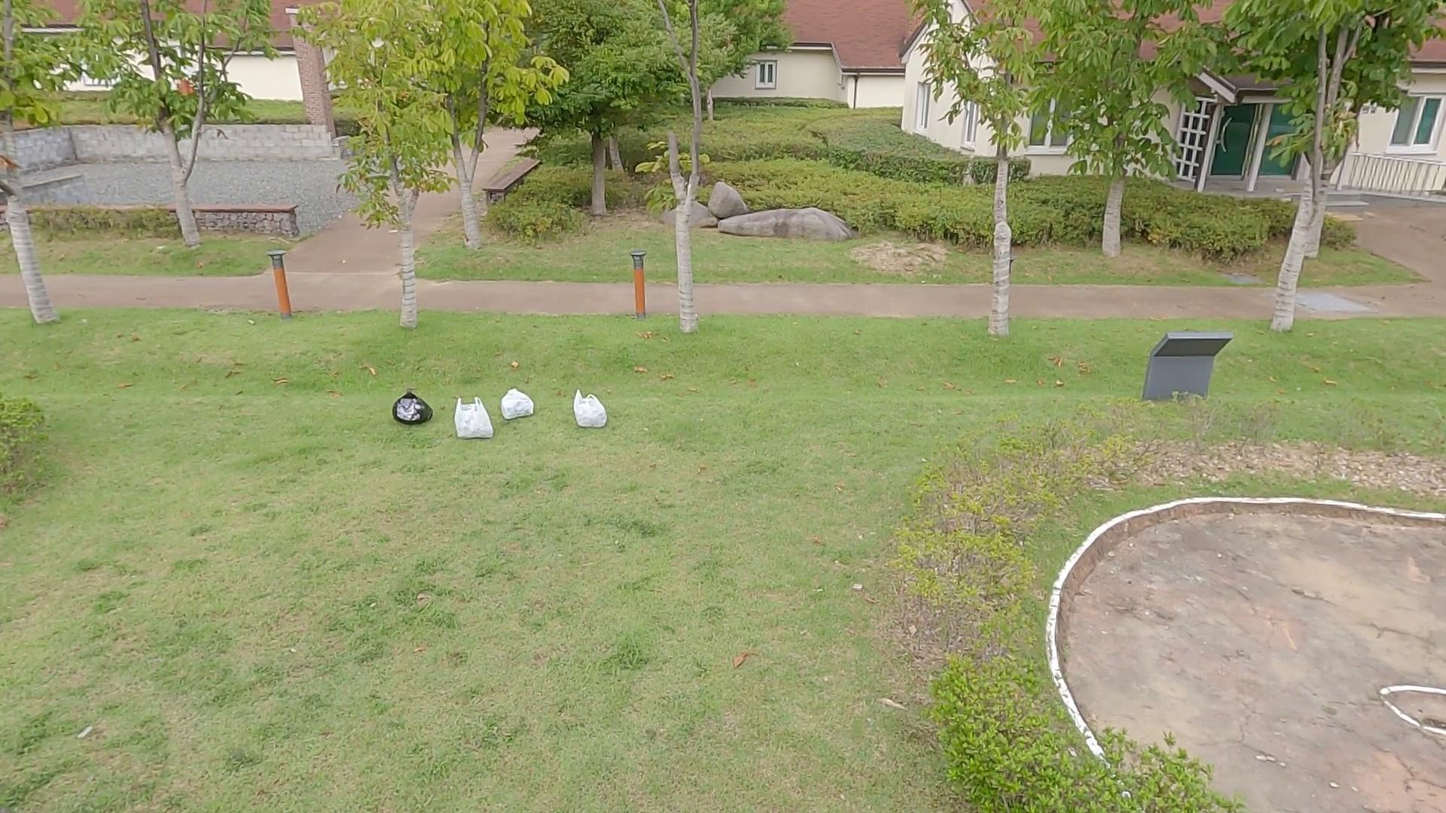trash: (448, 395, 498, 447), (570, 388, 611, 434), (493, 386, 537, 427), (388, 388, 431, 429)
